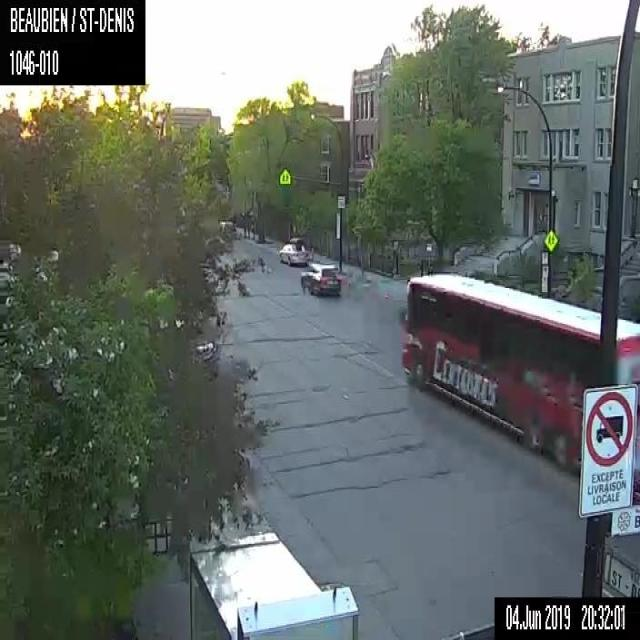bus: (397, 269, 639, 500)
vehicle: (300, 261, 342, 295), (276, 237, 312, 266)
